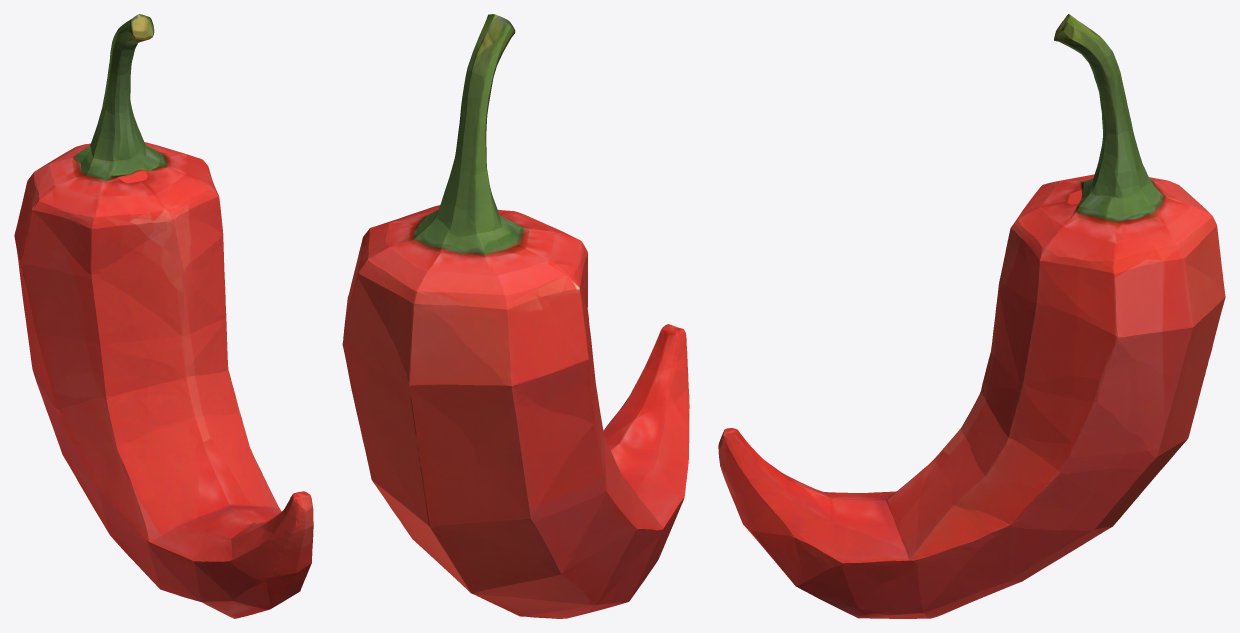
Rendered from Low_poly_red_chili_0419125345_texture.fbx.
3 views of the same model, side by side, from view 1: azimuth 30°, elevation 25°; view 2: azimuth 150°, elevation 25°; view 3: azimuth 270°, elevation 25° (orthographic). The views are drawn at different scales.
Parts seen in each view (by area): view 1: temp; view 2: temp; view 3: temp.
Boxes of the visible parts, x1=… form: temp: x1=14, y1=14, x2=313, y2=618; temp: x1=342, y1=14, x2=689, y2=618; temp: x1=718, y1=14, x2=1225, y2=618.
Size of the model in its own units: 76.7 by 200 by 154.
1 material, 1 textured.
